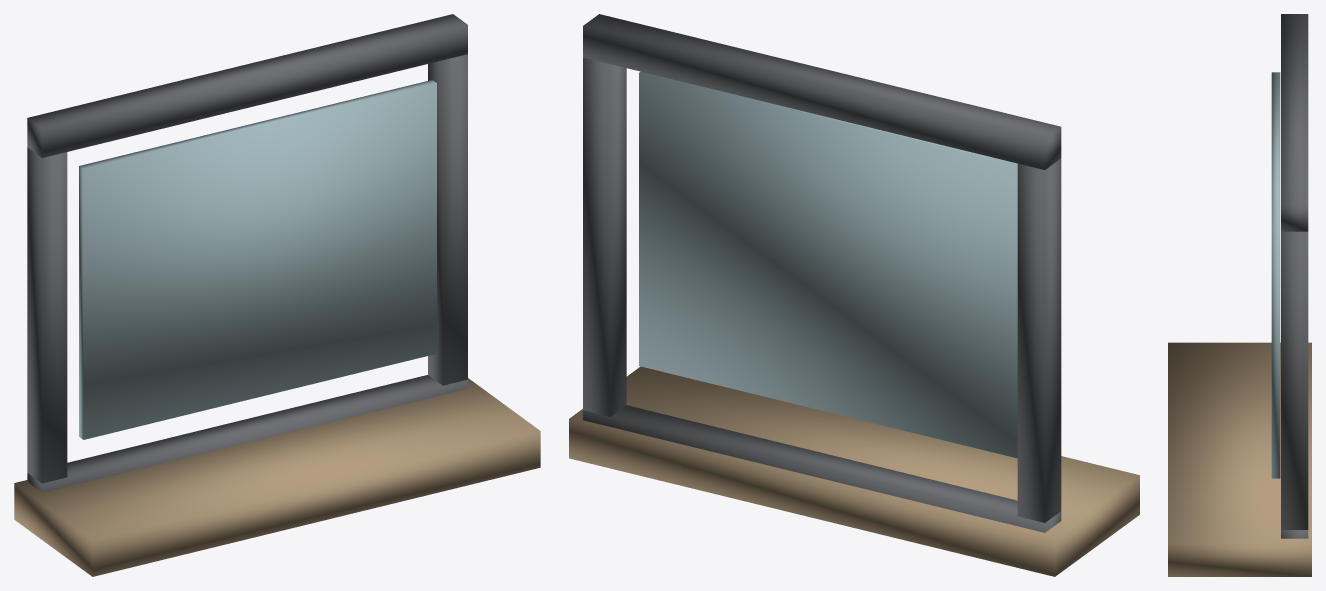
Rendered from service_window__compact.glb.
3 renders of one model, left to right at view 1: azimuth 30°, elevation 25°; view 2: azimuth 150°, elevation 25°; view 3: azimuth 270°, elevation 25°, orthographic. The views are drawn at different scales.
Visible parts, largest first — view 1: world; view 2: world; view 3: world.
Boxes of the visible parts, x1,y1,x2,y2 form: world: [14, 14, 540, 576]; world: [569, 14, 1139, 576]; world: [1168, 14, 1311, 576].
Bounding box in the file's own units: 1.19 × 1.02 × 0.3612.
